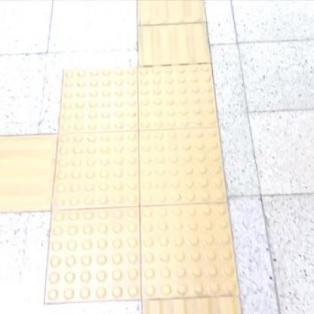Podoctatil: (39, 46, 248, 314), (141, 0, 211, 66)
